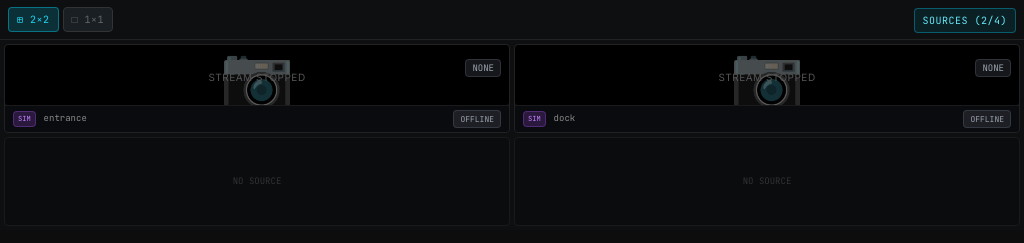
it: CameraWallModule › exits focus mode with back button
Click the button with test id "camera-tile-sim.entrance" at (257, 88), box [4,44,510,133]
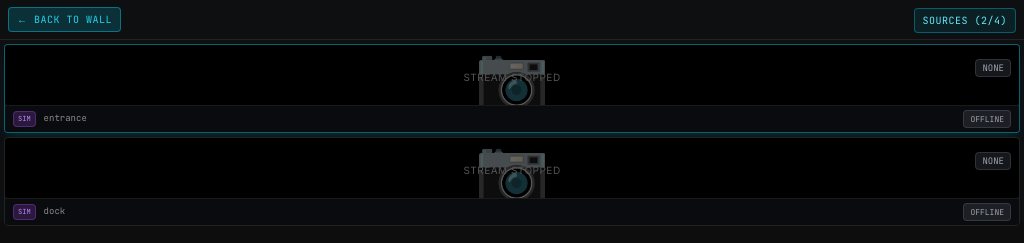
Result: the button "← Back to wall" is shown
Click the button "← Back to wall" at (64, 20), box [8,7,121,32]
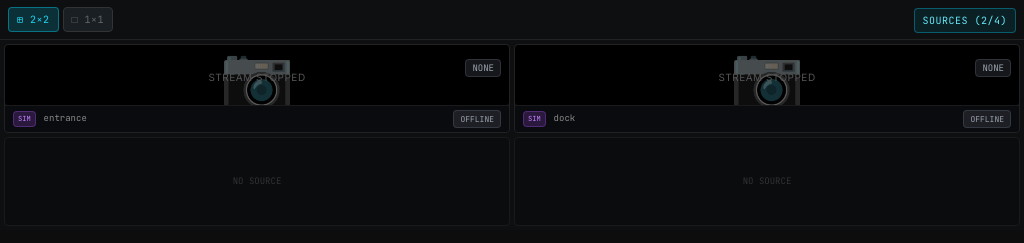
Result: the button "← Back to wall" is gone
